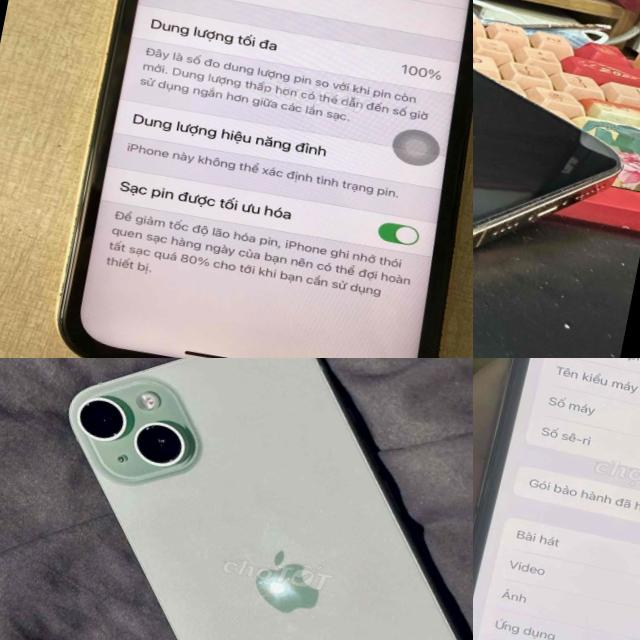gen_12_13: (473, 0, 640, 277)
gen_15: (0, 358, 473, 640)
gen_x_xs: (36, 0, 473, 358), (473, 358, 640, 640)
